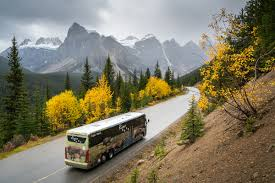bus: (63, 110, 151, 171)
